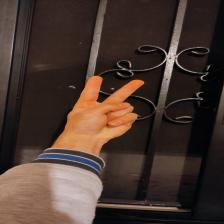two: (58, 74, 148, 142)
